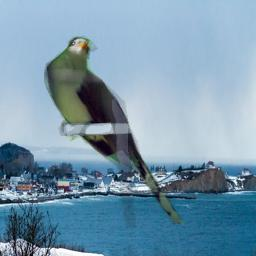Cuckoo: (44, 36, 192, 228)
